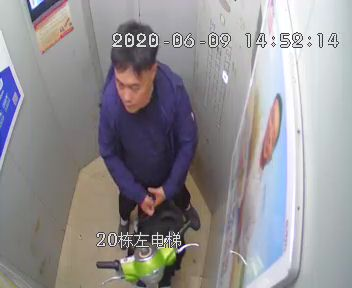Electric-bicycle: (95, 199, 197, 288)
